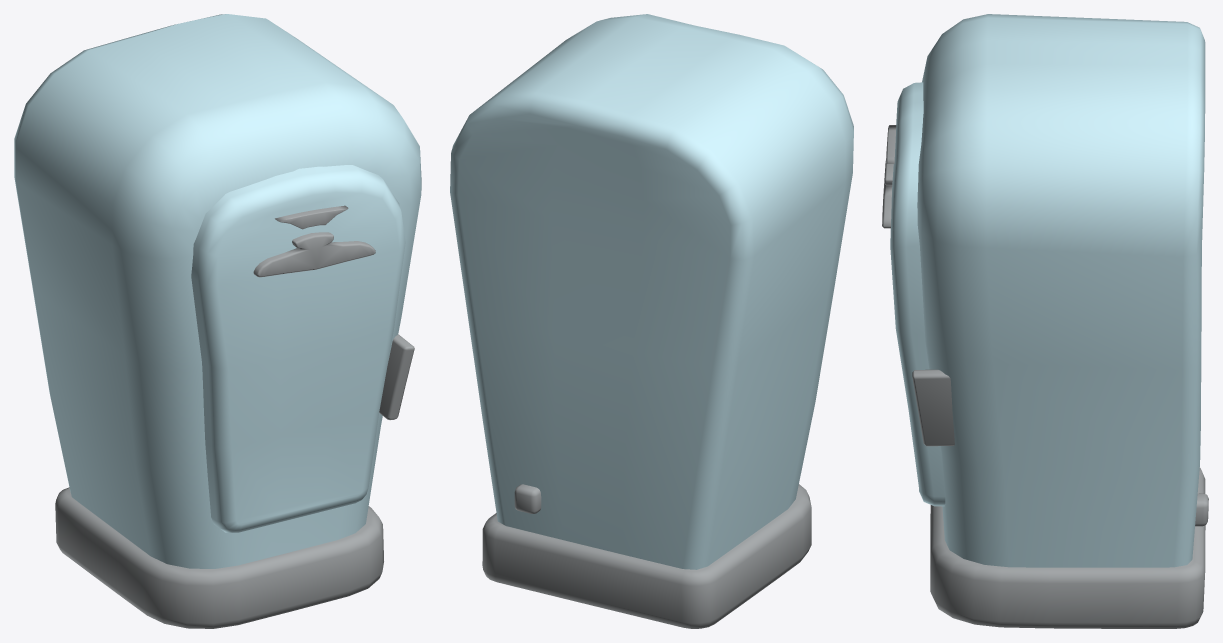
Rendered from props_fridge.fbx.
The picture shows the model from 3 angles, left to right: view 1: azimuth 30°, elevation 25°; view 2: azimuth 150°, elevation 25°; view 3: azimuth 270°, elevation 25°; orthographic projection. The views are drawn at different scales.
Visible parts, largest first — view 1: Frigo; view 2: Frigo; view 3: Frigo.
Part boxes in pixels (x1,y1,x2,y2): Frigo: [14, 14, 421, 628]; Frigo: [450, 14, 853, 628]; Frigo: [882, 14, 1208, 628].
Bounding box in the file's own units: 183 × 290 × 166.
